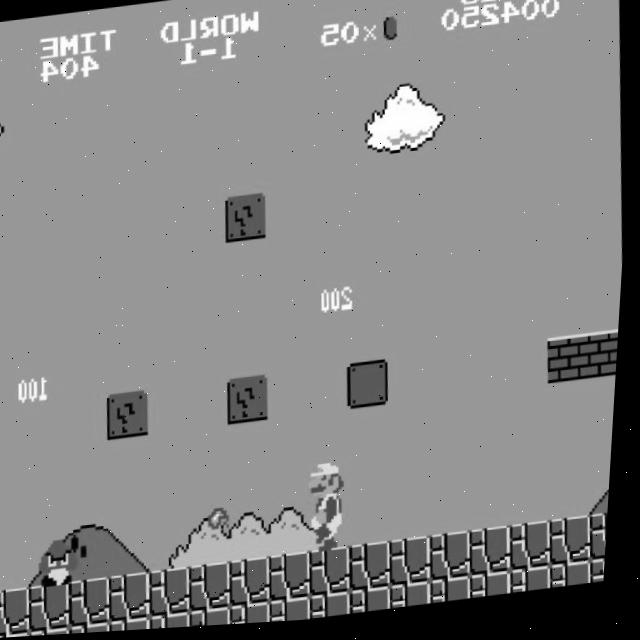1- brick_block: (549, 340, 595, 391), (590, 336, 623, 386)
13- mystery_block: (229, 377, 275, 428), (109, 391, 155, 442), (225, 195, 271, 245)
17- undestructible_block: (513, 526, 560, 577), (473, 531, 520, 582), (353, 545, 400, 596), (313, 550, 360, 601), (193, 564, 240, 615), (153, 568, 200, 619), (33, 582, 80, 633), (554, 522, 600, 573), (434, 535, 480, 586), (394, 540, 440, 591), (273, 554, 319, 605), (234, 559, 280, 610), (113, 573, 159, 624), (73, 578, 119, 629), (0, 587, 40, 638), (475, 576, 519, 605), (515, 572, 560, 600), (395, 586, 440, 614), (355, 590, 400, 618), (556, 567, 600, 595), (435, 581, 479, 609), (315, 595, 359, 623), (275, 600, 319, 626), (235, 604, 279, 628), (594, 518, 614, 567), (195, 609, 239, 630), (155, 613, 199, 631), (115, 618, 159, 633), (75, 622, 119, 635), (35, 627, 79, 637), (596, 564, 612, 590)
3- empty_block: (349, 363, 395, 414)
4- fire_mario: (307, 459, 360, 558)
5- fireball: (213, 507, 236, 535)
8- goomba: (42, 535, 91, 589)
